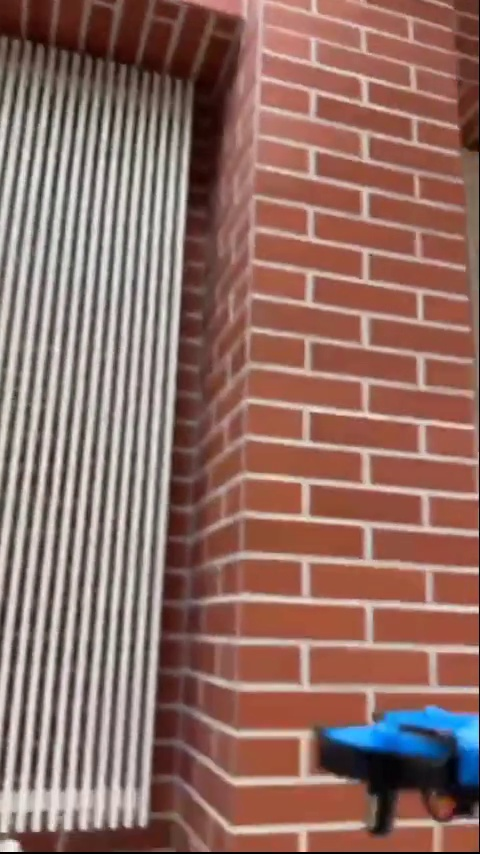drone: (315, 708, 480, 829)
